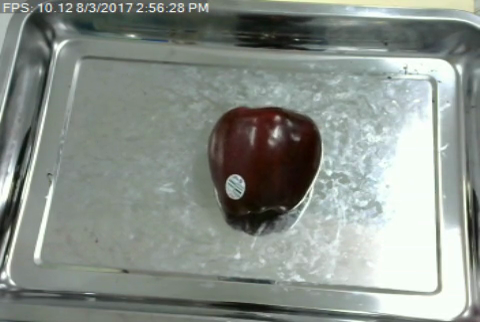Apple: (202, 101, 328, 225)
